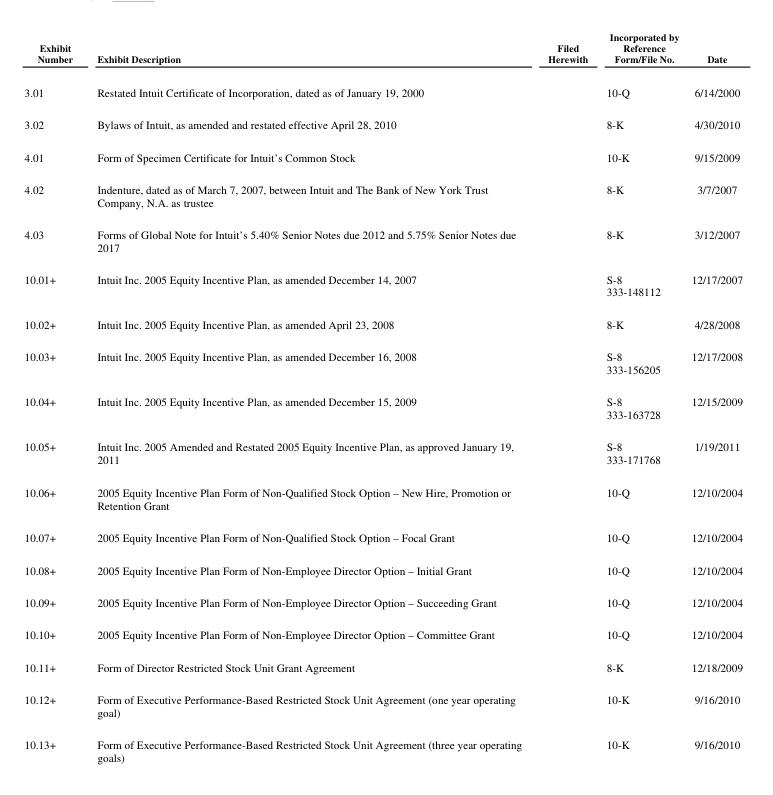table: (23, 29, 742, 763)
table column: (84, 29, 534, 763), (596, 29, 684, 763), (534, 29, 596, 763), (23, 29, 84, 763), (684, 29, 742, 763)
table column header: (23, 29, 742, 74)
table row: (23, 429, 742, 475), (23, 29, 742, 74), (23, 172, 742, 217), (23, 217, 742, 262), (23, 262, 742, 307), (23, 339, 742, 384), (23, 384, 742, 429), (23, 475, 742, 520), (23, 682, 742, 727), (23, 727, 742, 763), (23, 74, 742, 107), (23, 107, 742, 140), (23, 520, 742, 553), (23, 617, 742, 650), (23, 140, 742, 172), (23, 307, 742, 339), (23, 553, 742, 585), (23, 585, 742, 617), (23, 650, 742, 682)
